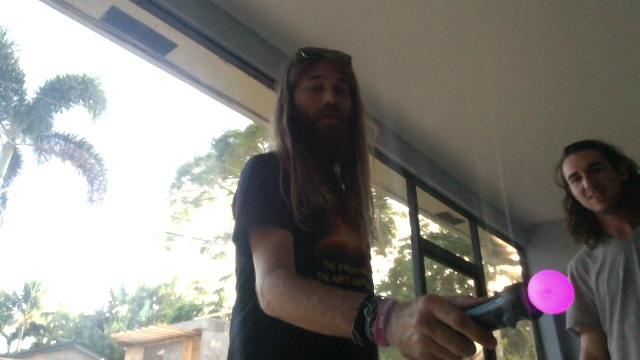wand: (527, 269, 574, 314)
